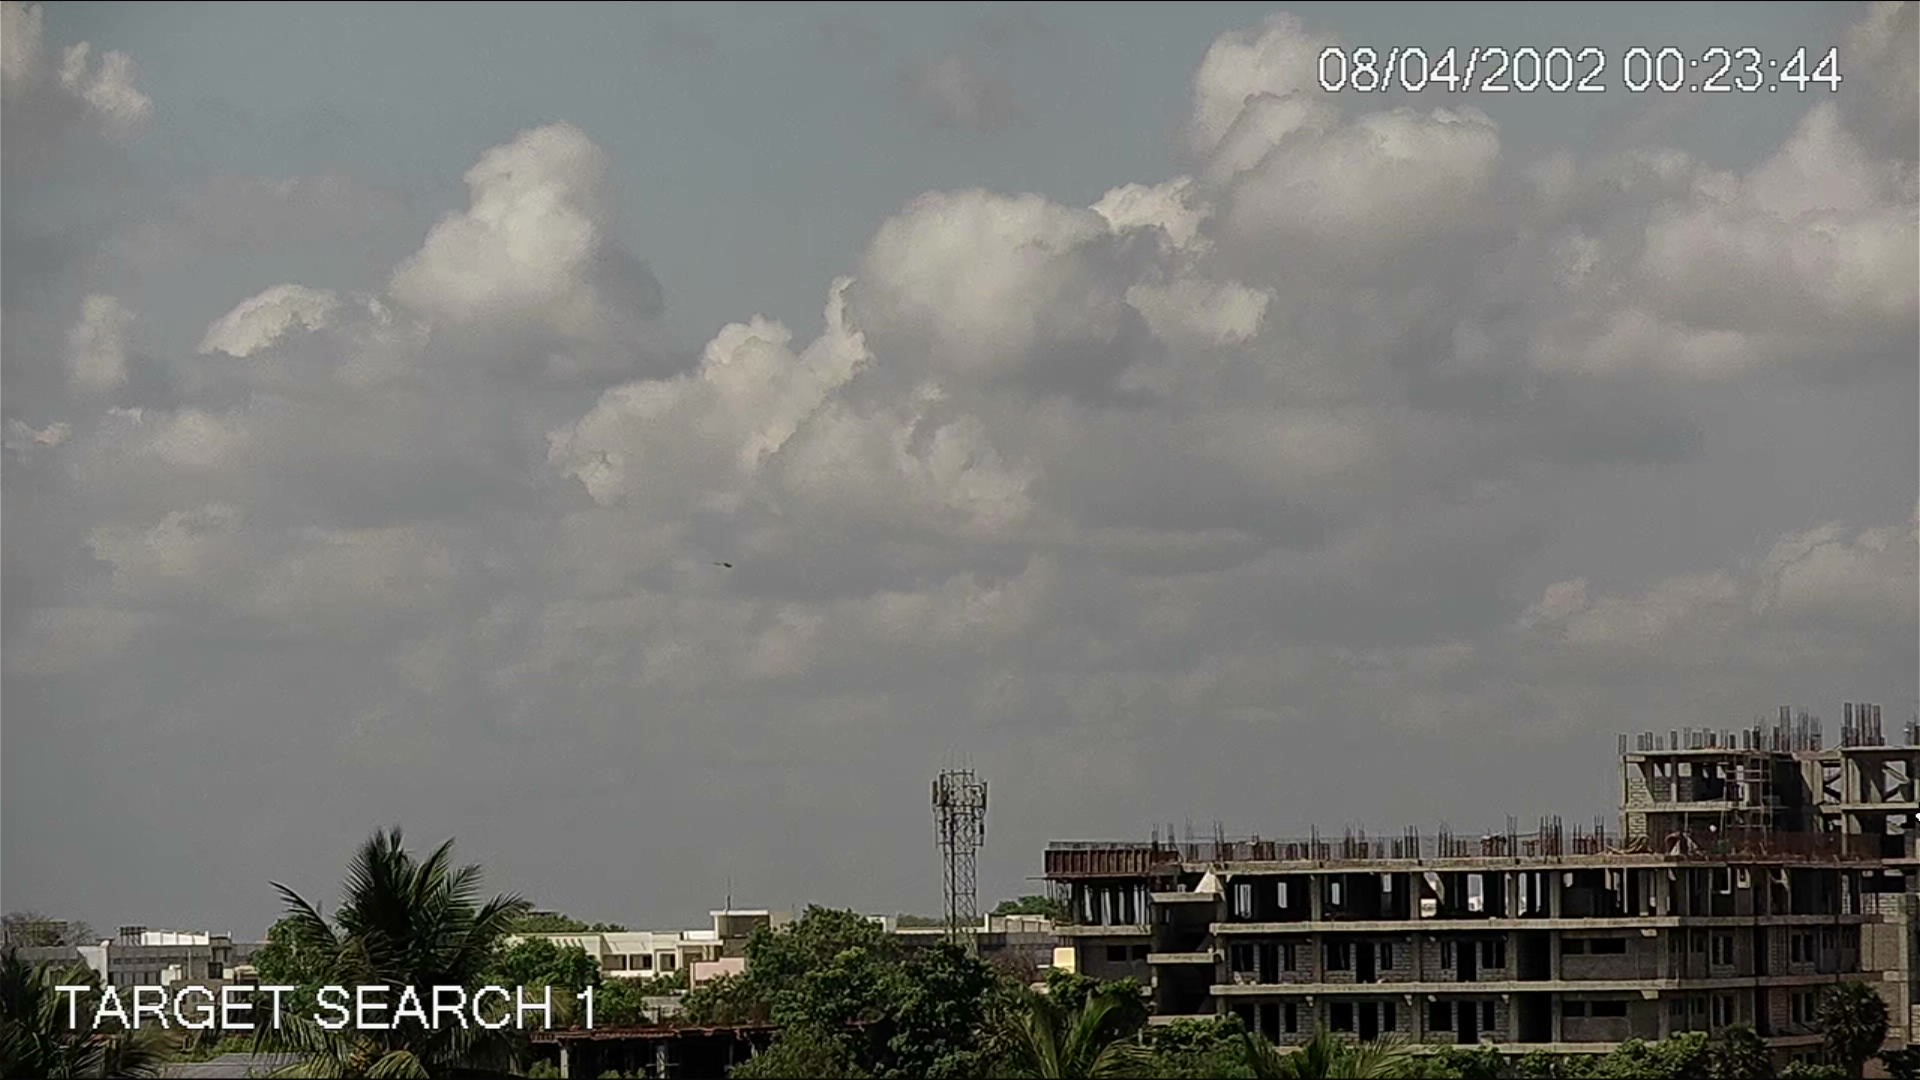SU_30: (713, 559, 735, 572)
